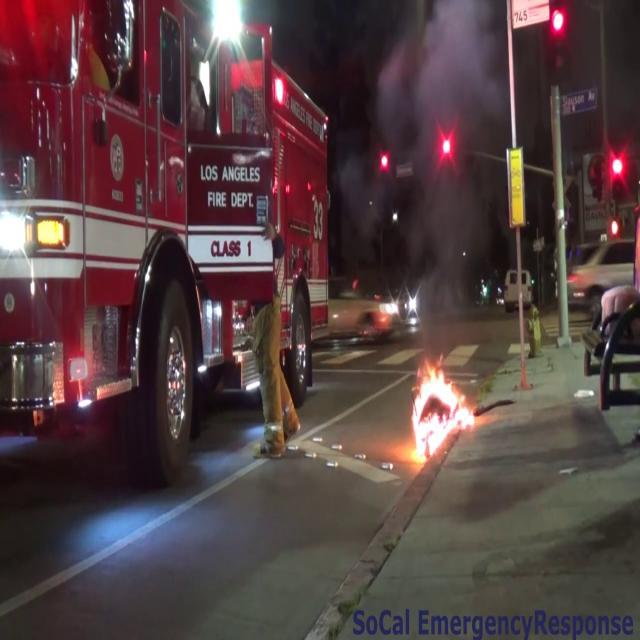Fire: (403, 358, 477, 464)
Smoke: (402, 0, 507, 334)
